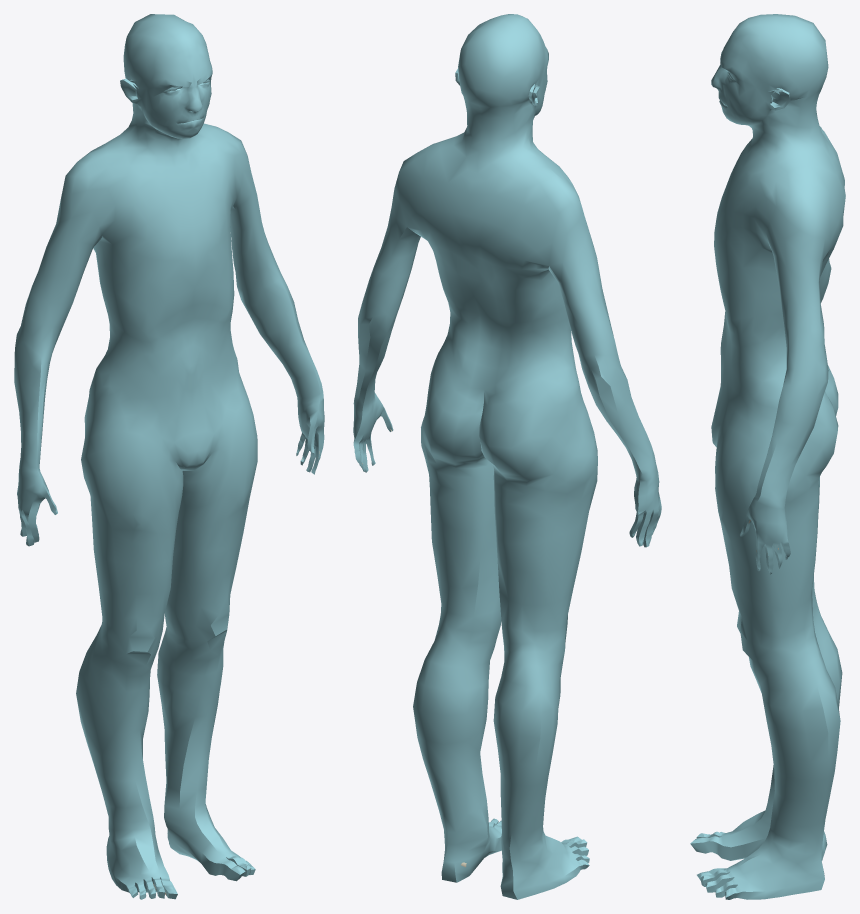
The model's file is EDU_Anatomy_XRay_20261006.glb.
3 renders of one model, left to right at view 1: azimuth 30°, elevation 25°; view 2: azimuth 150°, elevation 25°; view 3: azimuth 270°, elevation 25°, orthographic.
Visible parts, largest first — view 1: EDU_Anatomy_XRay_20261006_model_1.obj; view 2: EDU_Anatomy_XRay_20261006_model_1.obj; view 3: EDU_Anatomy_XRay_20261006_model_1.obj.
Boxes of the visible parts, x1,y1,x2,y2 form: EDU_Anatomy_XRay_20261006_model_1.obj: (14,14,324,899); EDU_Anatomy_XRay_20261006_model_1.obj: (353,14,661,899); EDU_Anatomy_XRay_20261006_model_1.obj: (690,14,845,899).
Size of the model in its own units: 0.6651 by 1.8 by 0.2961.
